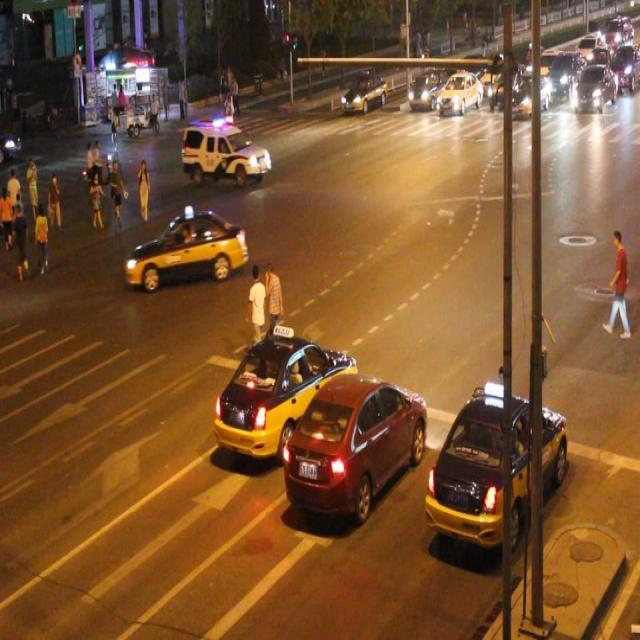car: (441, 405, 576, 559), (301, 366, 426, 523), (217, 322, 352, 451), (128, 202, 256, 296), (178, 125, 284, 199), (326, 49, 400, 130), (570, 59, 625, 127), (430, 61, 484, 129), (505, 70, 558, 127), (603, 22, 640, 88), (404, 69, 438, 108)
